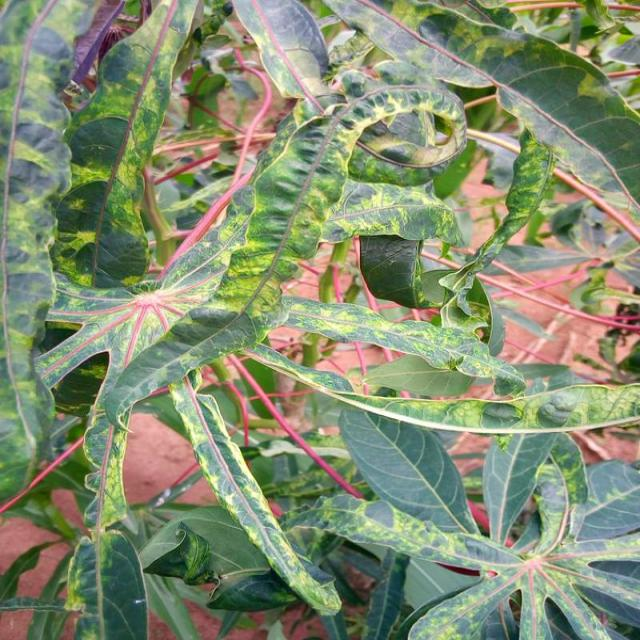cassava leaf: (2, 1, 637, 637)
